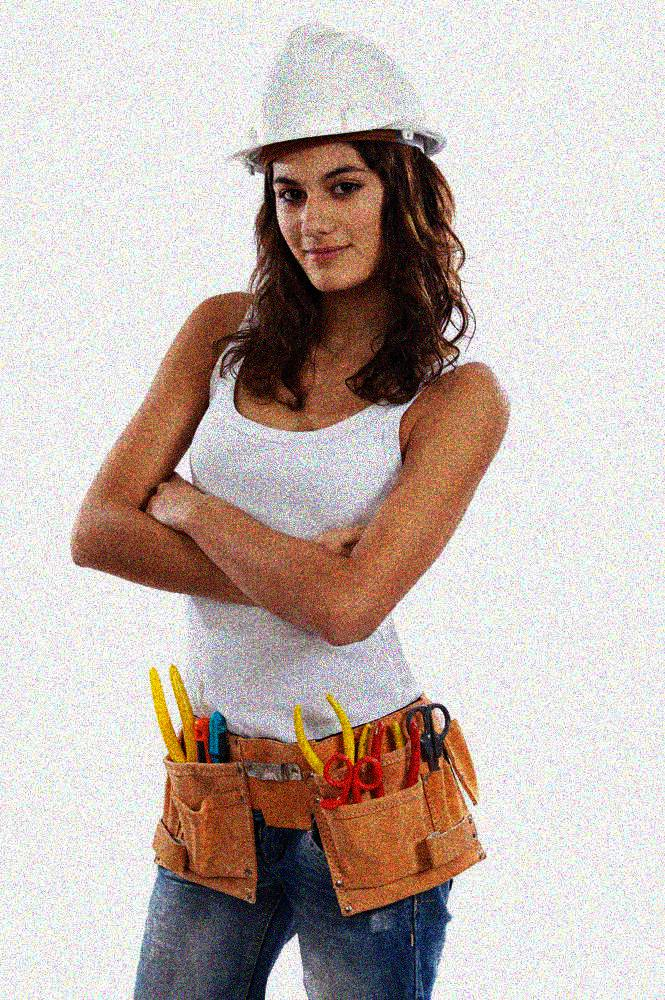helmet: (220, 18, 447, 292)
